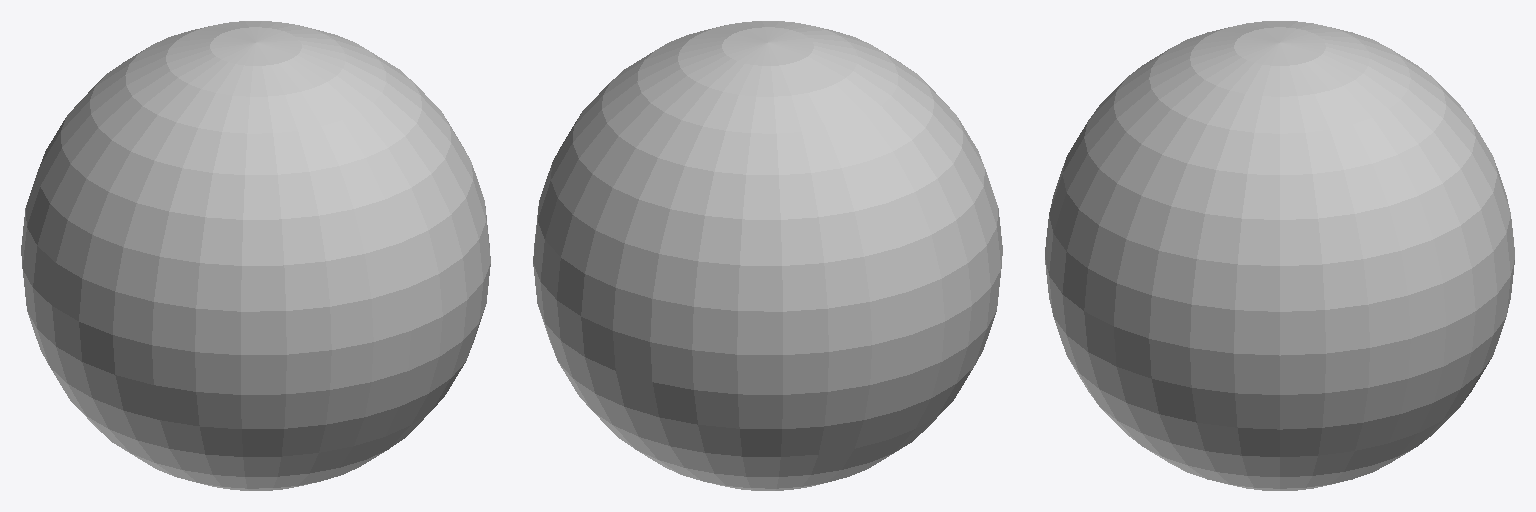
Rendered from bead.obj.
The picture shows the model from 3 angles: view 1: azimuth 30°, elevation 25°; view 2: azimuth 150°, elevation 25°; view 3: azimuth 270°, elevation 25°; orthographic projection.
Visible parts, largest first — view 1: Sphere; view 2: Sphere; view 3: Sphere.
Boxes of the visible parts, x1,y1,x2,y2 form: Sphere: [21, 21, 490, 490]; Sphere: [533, 21, 1002, 490]; Sphere: [1045, 21, 1514, 490].
Size of the model in its own units: 0.5659 by 0.5659 by 0.5659.